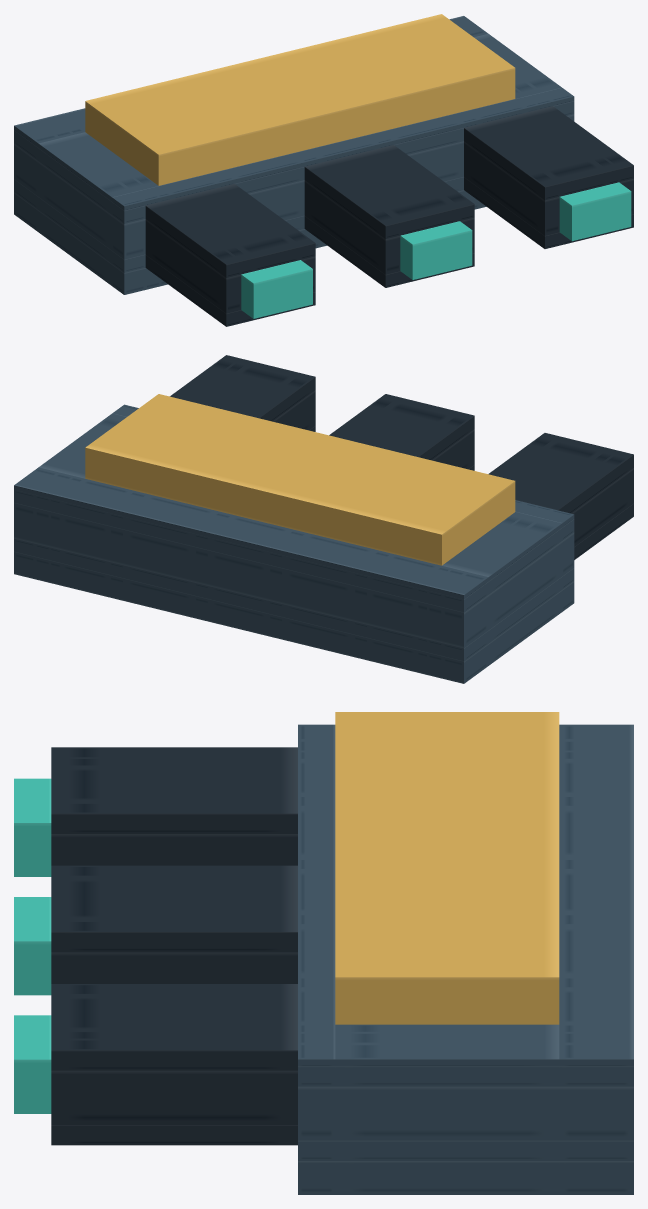
File: sc_pickup_triple_laser.obj
3 renders of one model, top to bottom at view 1: azimuth 30°, elevation 25°; view 2: azimuth 150°, elevation 25°; view 3: azimuth 270°, elevation 25°, orthographic. The views are drawn at different scales.
Bounding box in the file's own units: 10.6 × 2.7 × 8.3.
1 material, 1 textured.
